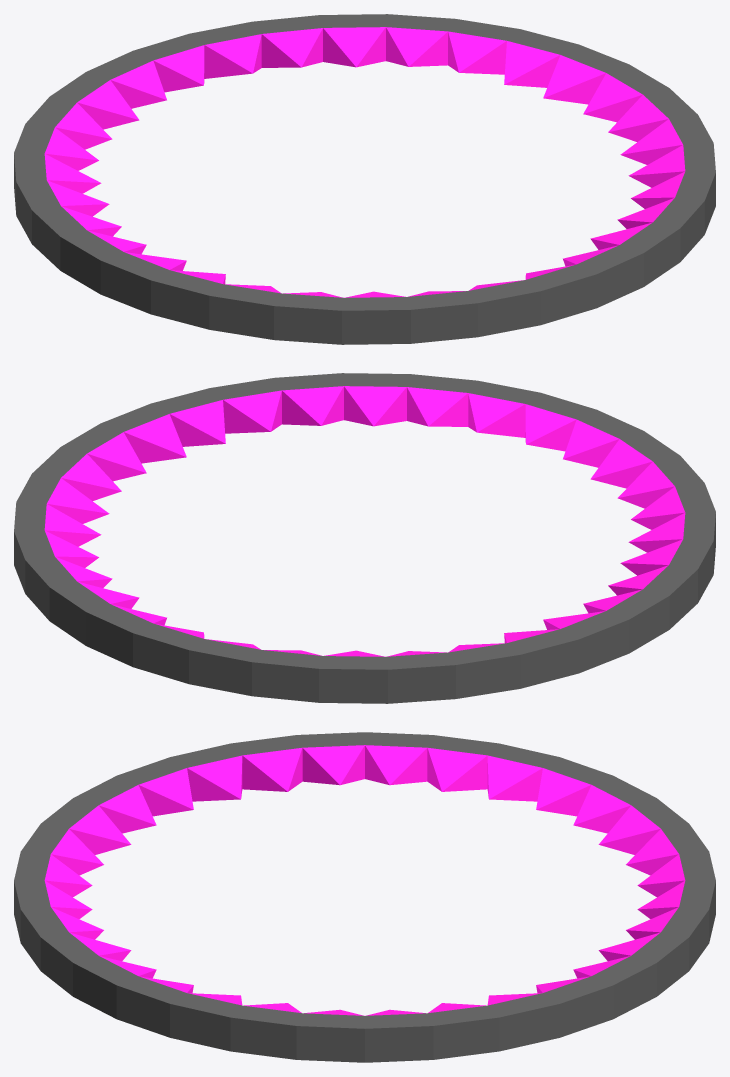
The model's file is stageCircle.glb.
The picture shows the model from 3 angles, top to bottom: view 1: azimuth 30°, elevation 25°; view 2: azimuth 150°, elevation 25°; view 3: azimuth 270°, elevation 25°; orthographic projection.
Parts seen in each view (by area): view 1: Spear; view 2: Spear; view 3: Spear.
Boxes of the visible parts, box(x1,y1,x2,y2) form: Spear: box(14, 14, 715, 344); Spear: box(14, 373, 715, 703); Spear: box(14, 732, 715, 1062).
Size of the model in its own units: 2.25 by 0.12 by 2.25.
